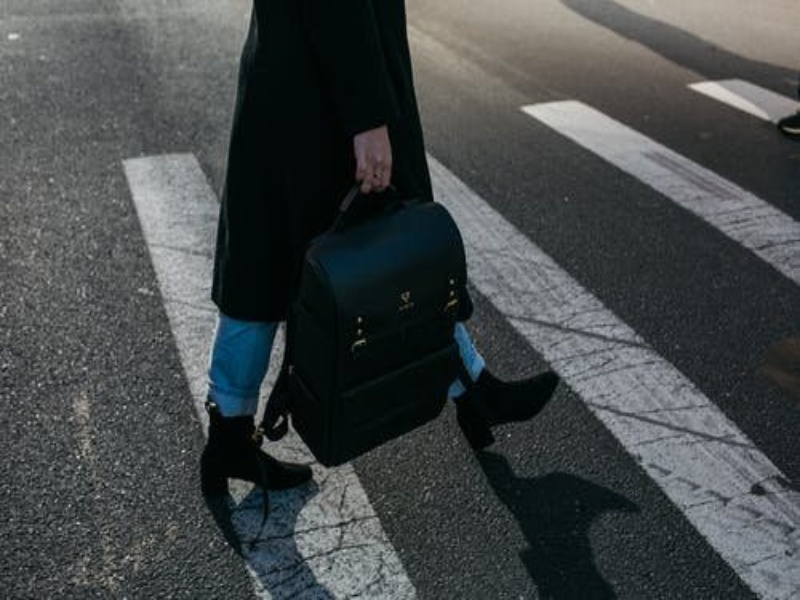zebra cross: (118, 75, 796, 600)
